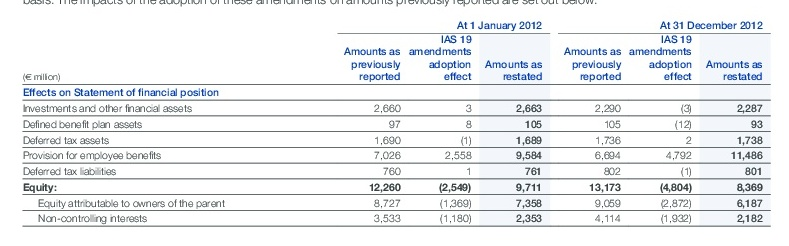table: (0, 0, 789, 246)
